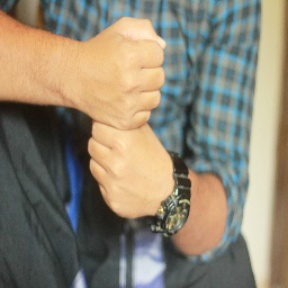G: (64, 17, 194, 215)
